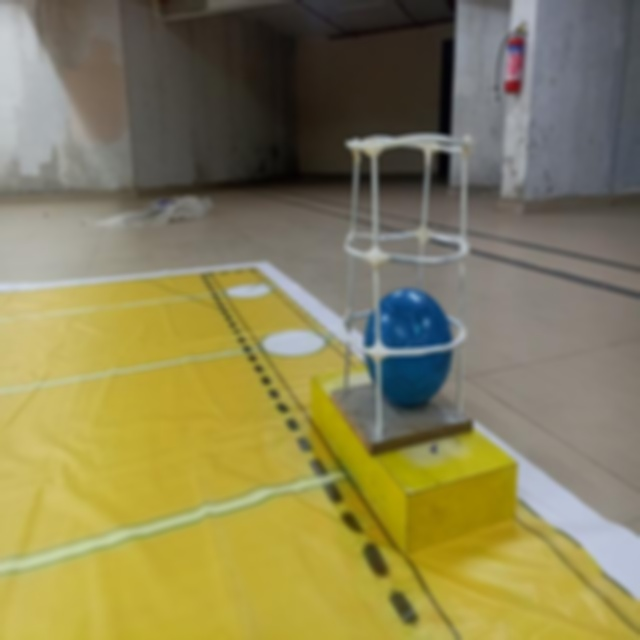blue_ball: (365, 284, 452, 402)
silo: (339, 130, 478, 452)
